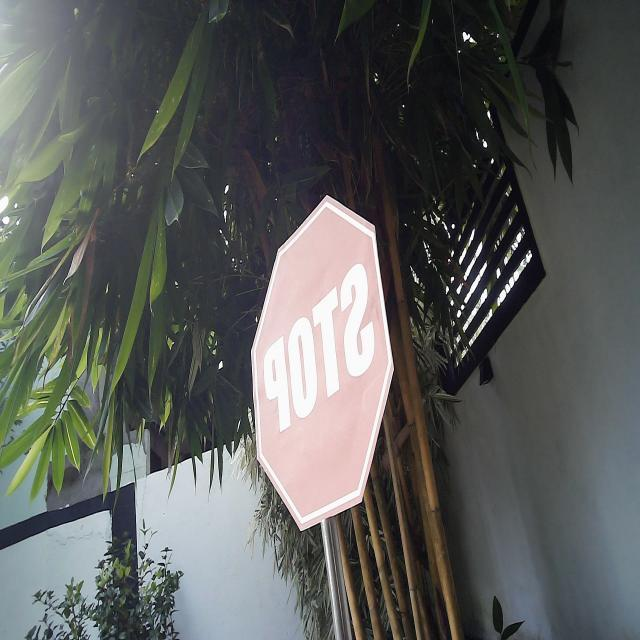stop: (249, 190, 397, 534)
